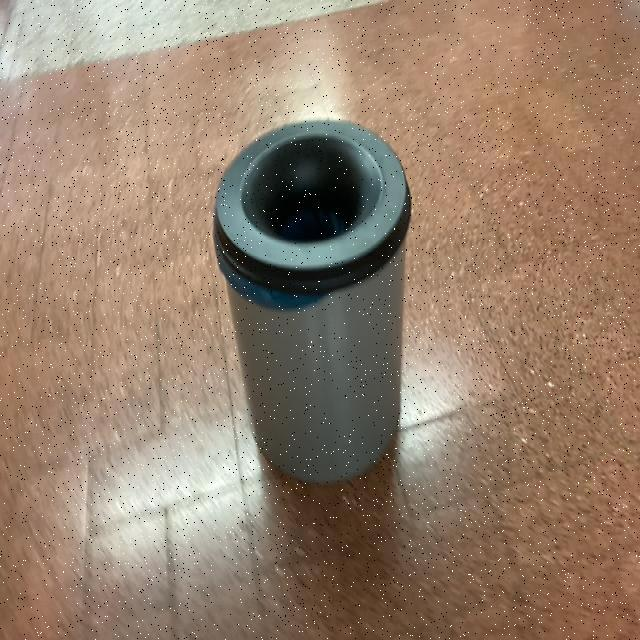garbage container: (190, 100, 452, 517)
